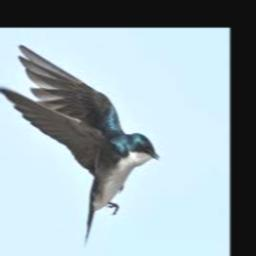Swallow: (0, 43, 158, 246)
